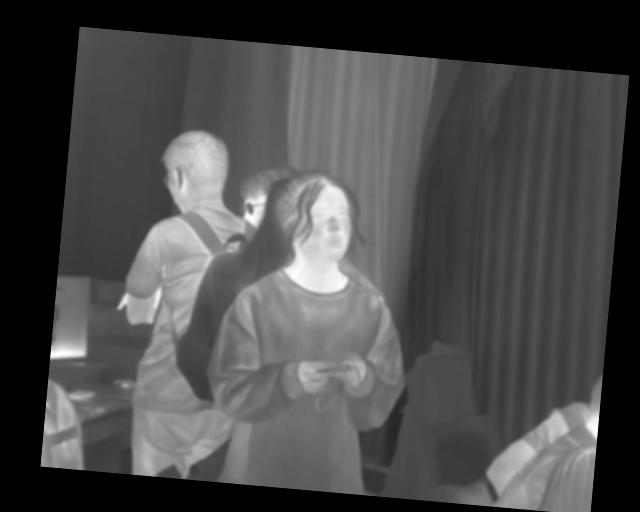face: (289, 155, 390, 270)
